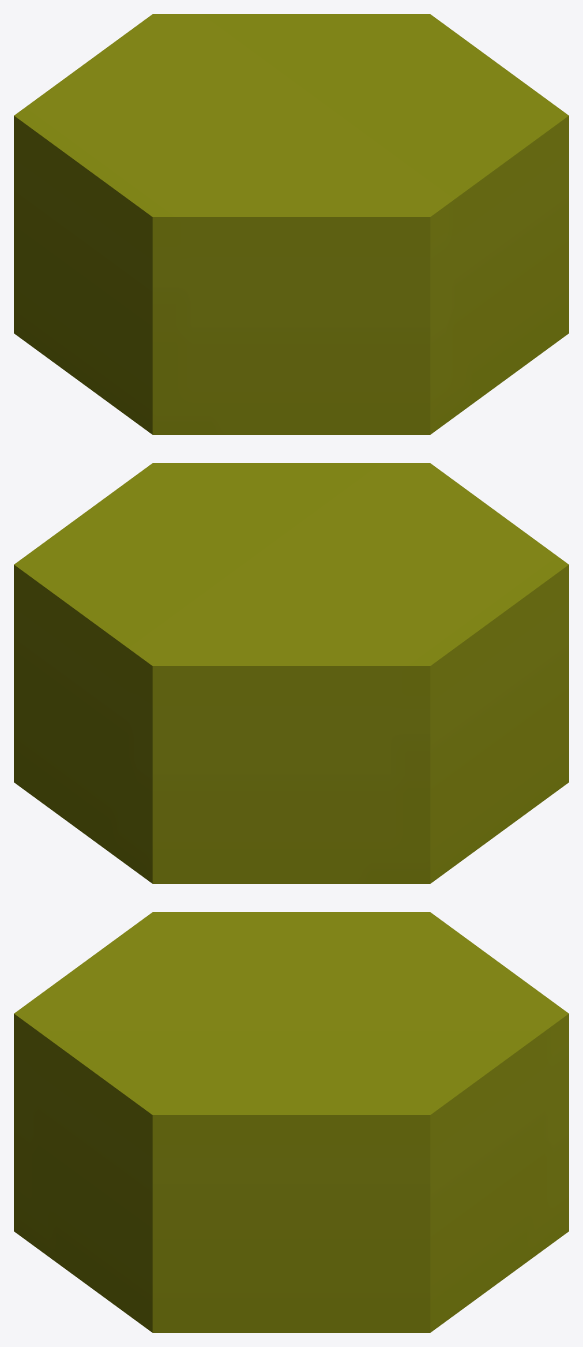
Rendered from kaykit-medieval-hexagon-pack-hex-grass-bottom.glb.
The picture shows the model from 3 angles, top to bottom: view 1: azimuth 30°, elevation 25°; view 2: azimuth 150°, elevation 25°; view 3: azimuth 270°, elevation 25°; orthographic projection.
Parts seen in each view (by area): view 1: hex_grass_bottom; view 2: hex_grass_bottom; view 3: hex_grass_bottom.
Part boxes in pixels (x1=…): hex_grass_bottom: x1=14, y1=14, x2=568, y2=434; hex_grass_bottom: x1=14, y1=463, x2=568, y2=883; hex_grass_bottom: x1=14, y1=912, x2=568, y2=1332.
Bounding box in the file's own units: 2 × 1 × 2.31.
1 material, 1 textured.
